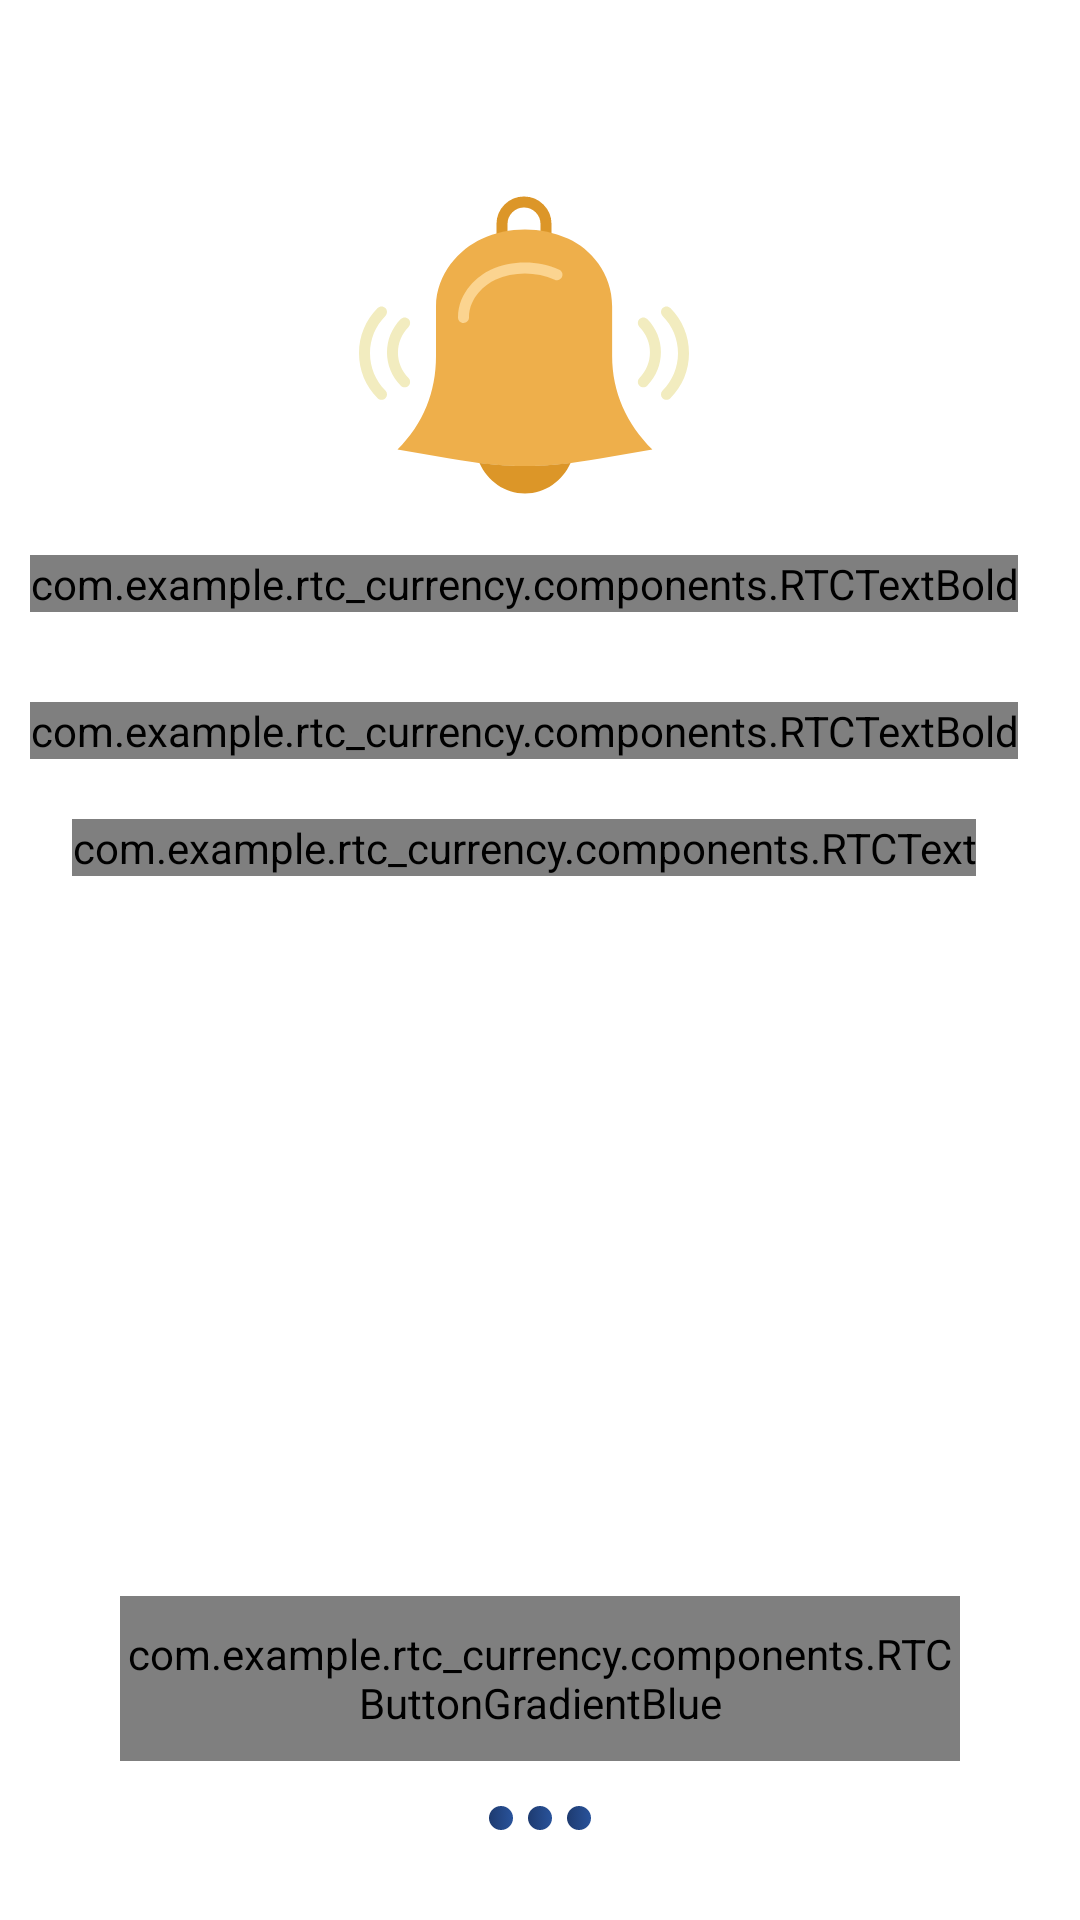

Where icons sit on this 1080px×1920px app screen, as (x1, y1, x2, y2):
alert gold: (359, 196, 689, 494)
